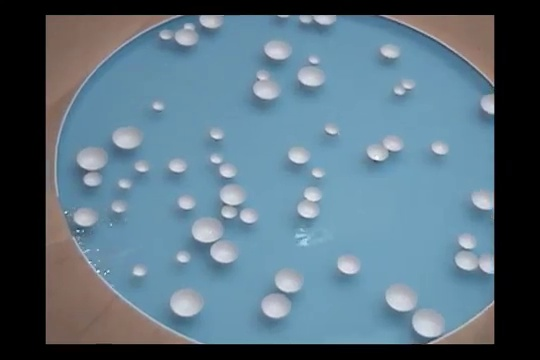bowl: (410, 307, 447, 337), (170, 287, 206, 317), (191, 217, 227, 243), (386, 282, 418, 311), (260, 293, 294, 319), (111, 123, 144, 149), (76, 145, 109, 171), (273, 266, 305, 292), (208, 239, 240, 264), (296, 65, 328, 88), (252, 78, 283, 100), (218, 184, 249, 206), (263, 39, 295, 60), (73, 205, 100, 229), (469, 183, 493, 210), (453, 249, 480, 272), (175, 26, 203, 48), (364, 141, 391, 163), (296, 199, 323, 220), (337, 254, 362, 275), (286, 145, 312, 164), (381, 133, 405, 153), (478, 248, 495, 275), (198, 15, 226, 30), (82, 171, 105, 189), (379, 42, 402, 60), (238, 206, 260, 224), (457, 231, 478, 249), (479, 91, 494, 116), (430, 139, 452, 156), (176, 193, 198, 210), (109, 196, 129, 214), (219, 160, 237, 180), (168, 156, 188, 174), (302, 185, 323, 201), (133, 159, 152, 175), (220, 204, 239, 220), (174, 248, 193, 264), (313, 15, 338, 27), (208, 126, 227, 141), (131, 264, 150, 279), (323, 123, 342, 137), (403, 77, 417, 92), (311, 165, 326, 179), (118, 176, 134, 189), (159, 28, 175, 41), (209, 151, 225, 164), (393, 83, 407, 97), (306, 52, 321, 65), (254, 69, 271, 80), (151, 99, 165, 112), (297, 15, 313, 25), (183, 20, 197, 30), (278, 14, 293, 20)
